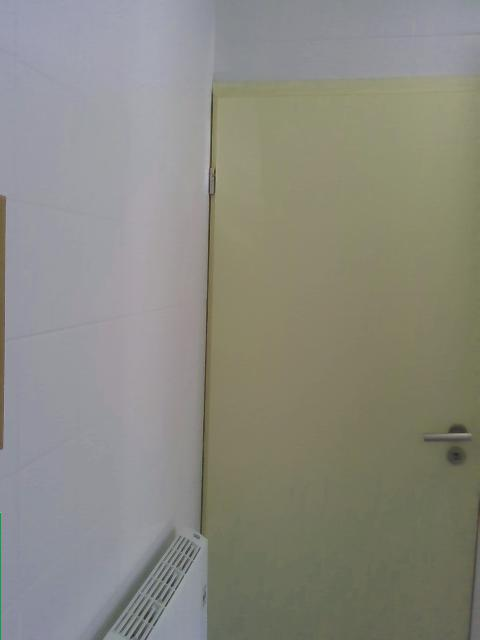closed_door: (202, 78, 479, 637)
